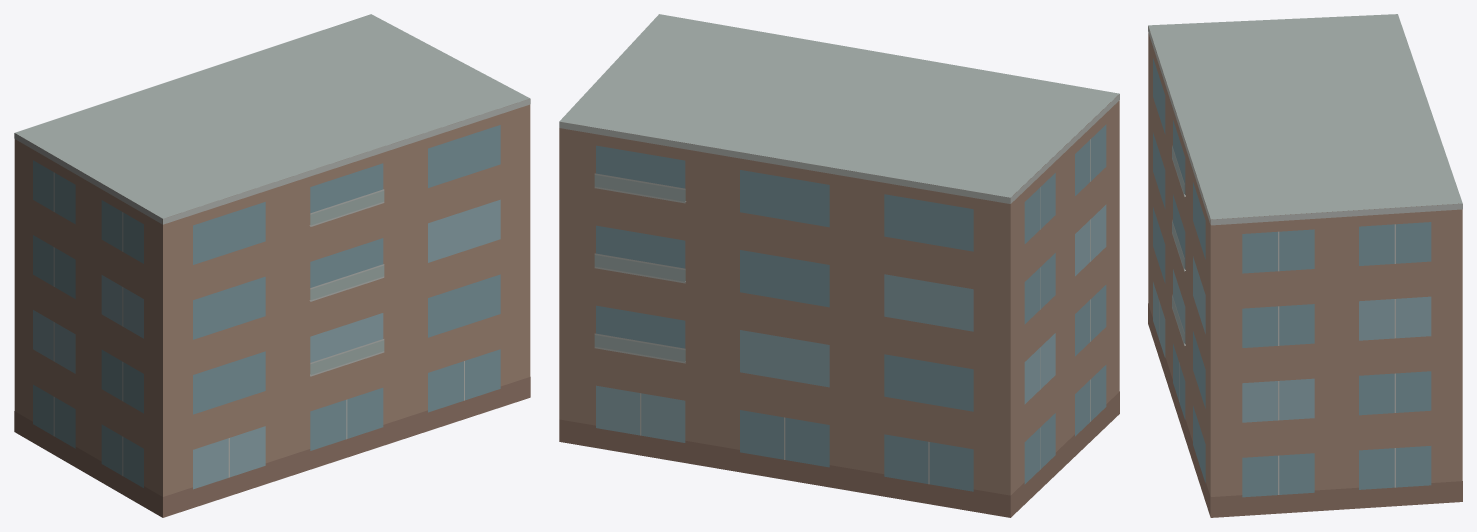
Rendered from survey-upis-32563672.glb.
3 views of the same model, side by side, from view 1: azimuth 30°, elevation 25°; view 2: azimuth 150°, elevation 25°; view 3: azimuth 270°, elevation 25° (orthographic). The views are drawn at different scales.
Visible parts, largest first — view 1: survey-upis-32563672.tmp; view 2: survey-upis-32563672.tmp; view 3: survey-upis-32563672.tmp.
Part boxes in pixels (bbox=[...]): survey-upis-32563672.tmp: bbox=[14, 14, 530, 517]; survey-upis-32563672.tmp: bbox=[559, 14, 1119, 517]; survey-upis-32563672.tmp: bbox=[1148, 14, 1462, 517].
Bounding box in the file's own units: 18.03 × 12.2 × 11.67.
